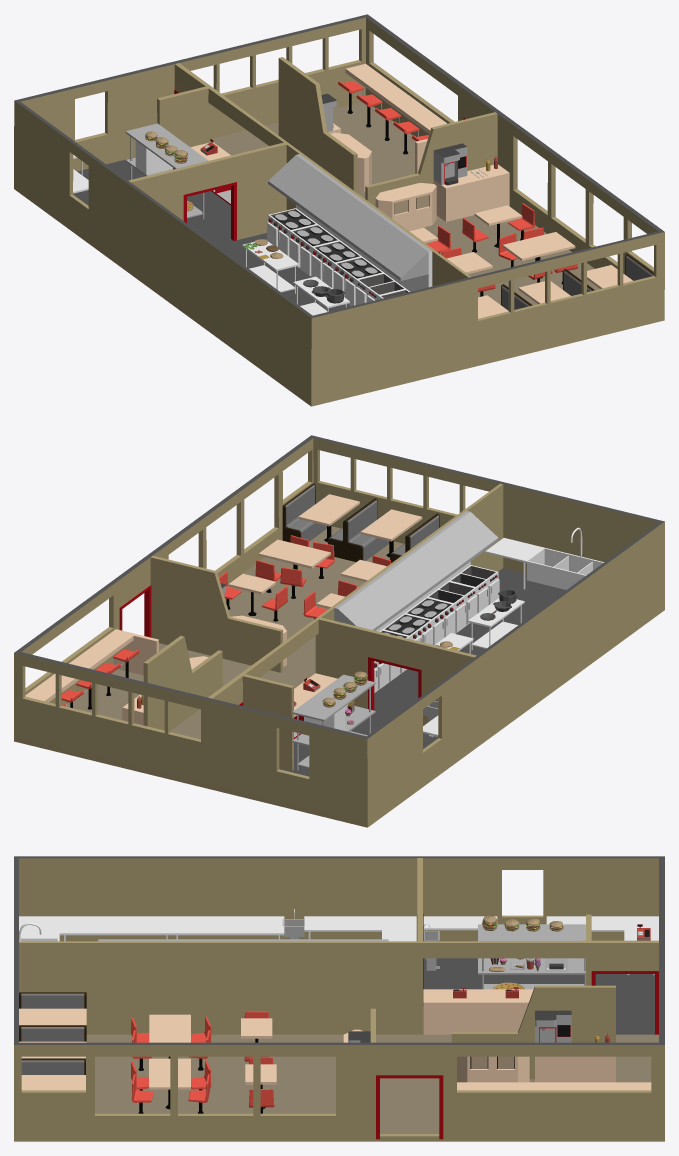
3 views of the same model, one above another, from view 1: azimuth 30°, elevation 25°; view 2: azimuth 150°, elevation 25°; view 3: azimuth 270°, elevation 25° (orthographic). The views are drawn at different scales.
Parts seen in each view (by area): view 1: Scene, Stove, Trash Can Double.002, Trash Can Double.001, Fryer, Counter.001, Table Booth, Table Wide, Wall Table, Table Thing, Prep Table Thin.001, Prep Table Stack (+4 smaller); view 2: Scene, Trash Can Double.001, Stove, Table Booth, Fryer, Trash Can Double.002, Table Wide, Kitchen Sink Big, Wall Table, Prep Table Stack, Table Thing, Prep Table Thin.001 (+3 smaller); view 3: Scene, Trash Can Double.002, Table Booth, Prep Table, Table Wide, Counter, Prep Table Stack, Counter.002, Prep Table L, Table Thing, Wall Table, Prep Table L.001 (+6 smaller).
Boxes of the visible parts, <box> form: Scene: <box>14,14,664,406</box>; Stove: <box>267,154,387,306</box>; Trash Can Double.002: <box>278,57,371,193</box>; Trash Can Double.001: <box>365,112,497,230</box>; Fryer: <box>355,219,432,304</box>; Counter.001: <box>433,164,509,221</box>; Table Booth: <box>478,254,653,318</box>; Table Wide: <box>441,227,577,296</box>; Wall Table: <box>345,63,446,173</box>; Table Thing: <box>409,203,534,253</box>; Prep Table Thin.001: <box>242,241,349,315</box>; Prep Table Stack: <box>125,123,208,219</box>; Scene: <box>14,435,664,827</box>; Trash Can Double.001: <box>150,555,286,672</box>; Stove: <box>334,543,455,692</box>; Table Booth: <box>282,483,439,562</box>; Fryer: <box>423,511,499,633</box>; Trash Can Double.002: <box>143,635,222,730</box>; Table Wide: <box>255,535,391,598</box>; Kitchen Sink Big: <box>485,538,603,589</box>; Wall Table: <box>25,629,158,702</box>; Prep Table Stack: <box>292,674,375,770</box>; Table Thing: <box>219,572,345,621</box>; Prep Table Thin.001: <box>434,598,524,653</box>; Scene: <box>14,856,664,1141</box>; Trash Can Double.002: <box>451,985,615,1082</box>; Table Booth: <box>19,992,86,1090</box>; Prep Table: <box>59,916,284,941</box>; Table Wide: <box>131,1014,211,1113</box>; Counter: <box>423,989,533,1034</box>; Prep Table Stack: <box>478,924,585,989</box>; Counter.002: <box>535,1056,615,1082</box>; Prep Table L: <box>304,916,416,941</box>; Table Thing: <box>241,1011,276,1113</box>; Wall Table: <box>457,1082,651,1090</box>; Prep Table L.001: <box>546,916,658,975</box>.
Bounding box in the file's own units: 13.27 × 3.17 × 19.32.
